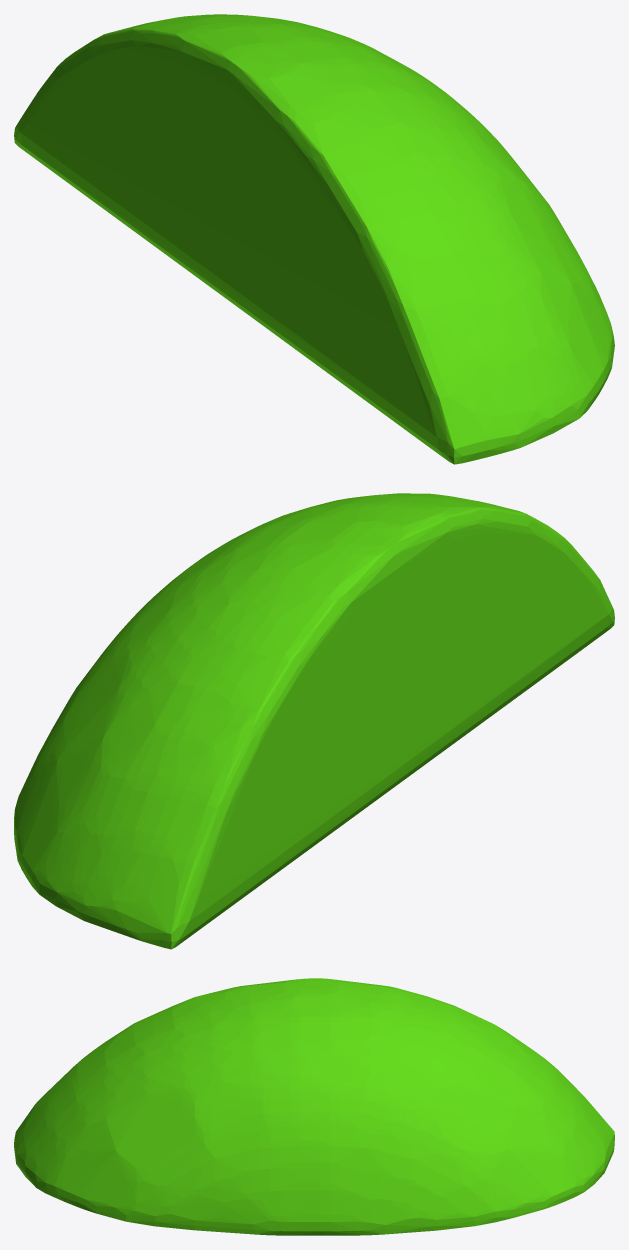
The model's file is right-hip-roll-0_part_17.obj.
The picture shows the model from 3 angles, top to bottom: view 1: azimuth 30°, elevation 25°; view 2: azimuth 150°, elevation 25°; view 3: azimuth 270°, elevation 25°; orthographic projection. The views are drawn at different scales.
Bounding box in the file's own units: 0.0246 × 0.0196 × 0.0647.
